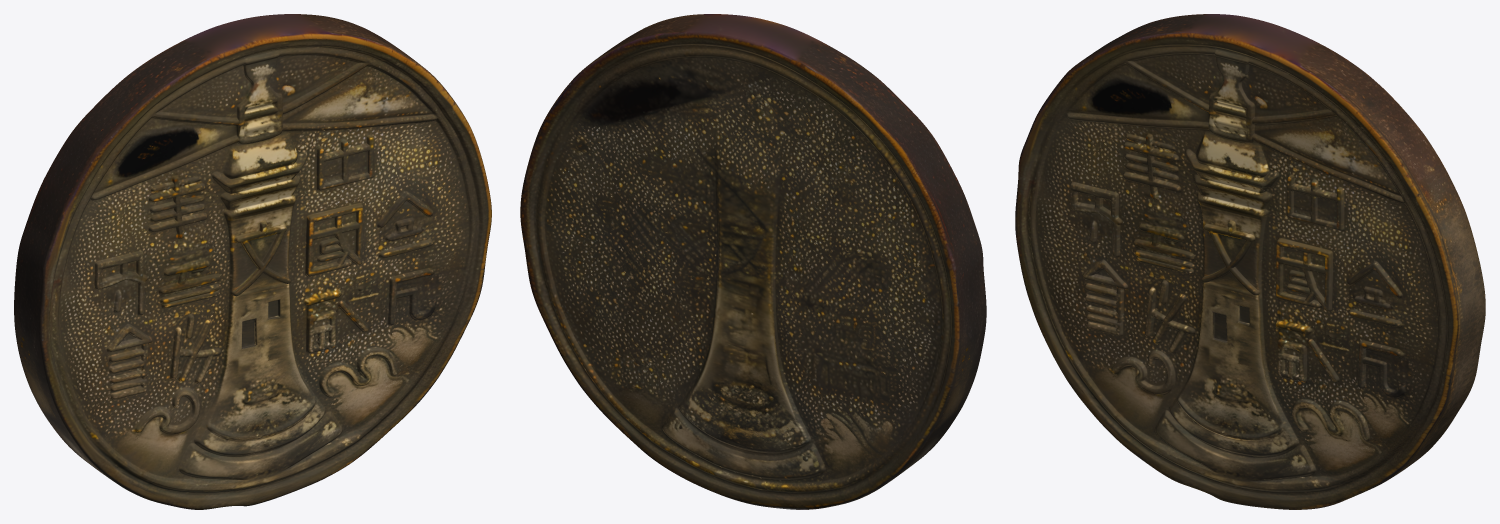
Rendered from 中华全国文艺界抗敌协会会徽.glb.
The picture shows the model from 3 angles, left to right: view 1: azimuth 30°, elevation 25°; view 2: azimuth 150°, elevation 25°; view 3: azimuth 330°, elevation 25°; orthographic projection.
Parts seen in each view (by area): view 1: texture_pbr_v128; view 2: texture_pbr_v128; view 3: texture_pbr_v128.
Part boxes in pixels (x1,y1,x2,y2): texture_pbr_v128: (14,14,491,509); texture_pbr_v128: (520,14,986,509); texture_pbr_v128: (1015,14,1485,509).
Size of the model in its own units: 1.18 by 1.18 by 0.1546.
Materials: 1 (1 with a texture image).
